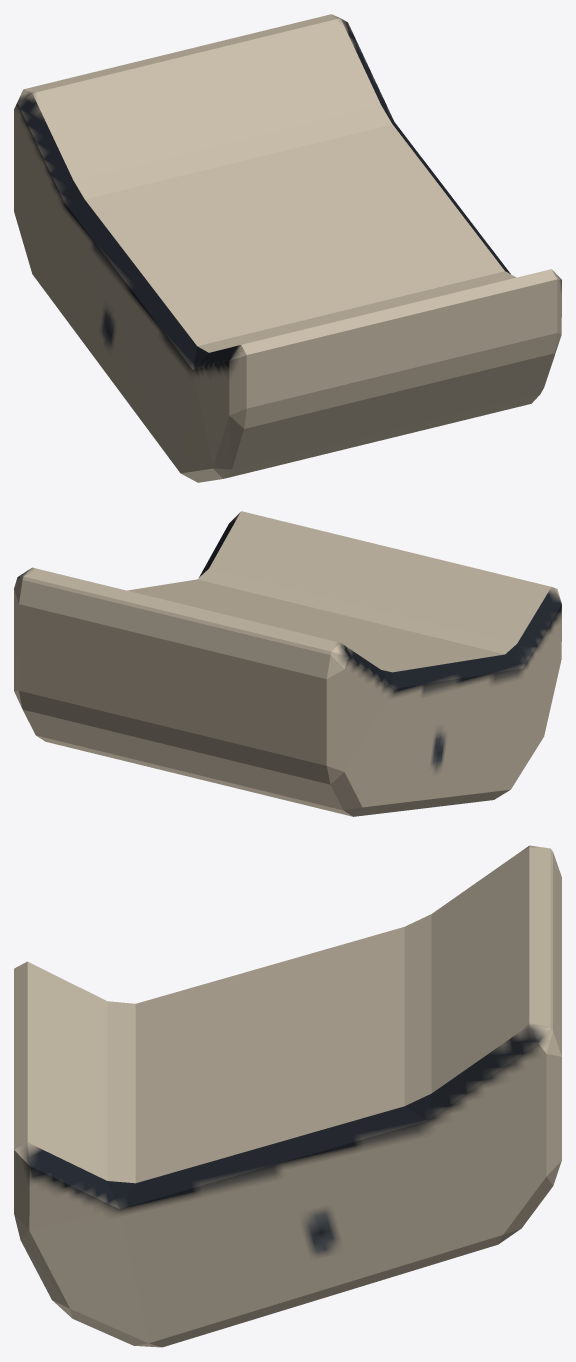
Rendered from heel.obj.
The picture shows the model from 3 angles, top to bottom: view 1: azimuth 30°, elevation 25°; view 2: azimuth 150°, elevation 25°; view 3: azimuth 270°, elevation 25°; orthographic projection. The views are drawn at different scales.
Visible parts, largest first — view 1: heel; view 2: heel; view 3: heel.
Part boxes in pixels (left/top/right/bottom): heel: left=14, top=14, right=561, bottom=482; heel: left=14, top=511, right=561, bottom=816; heel: left=14, top=845, right=561, bottom=1347.
Size of the model in its own units: 0.0378 by 0.0293 by 0.0451.
1 material, 1 textured.
